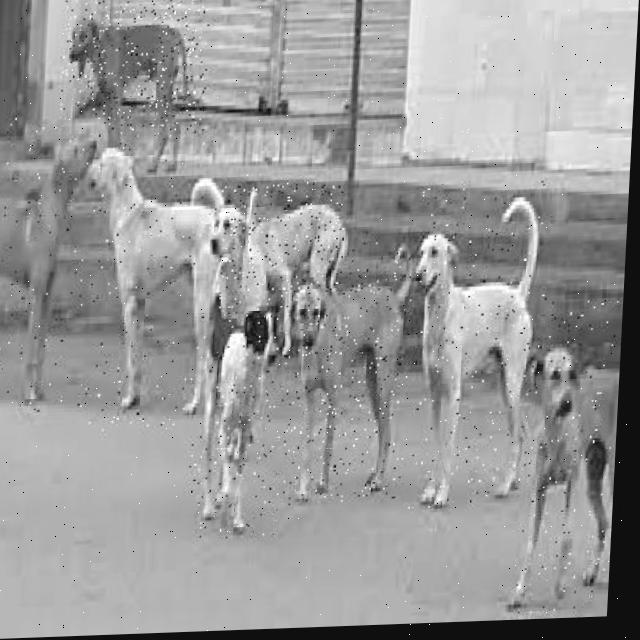Dog: (74, 132, 230, 437), (406, 180, 547, 511), (511, 289, 622, 617), (281, 241, 416, 507), (186, 249, 295, 541), (0, 111, 97, 416), (56, 0, 212, 185), (208, 180, 349, 293)
